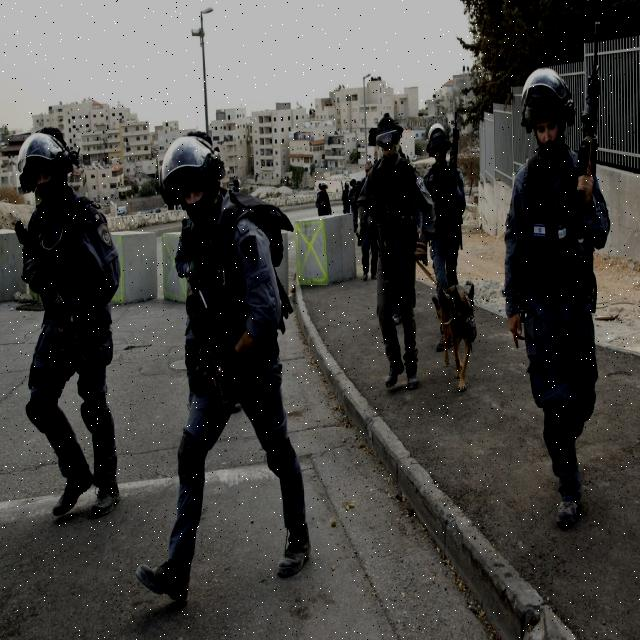police: (150, 106, 312, 640), (488, 50, 634, 542), (0, 120, 129, 553), (350, 97, 430, 393), (410, 107, 470, 412)
